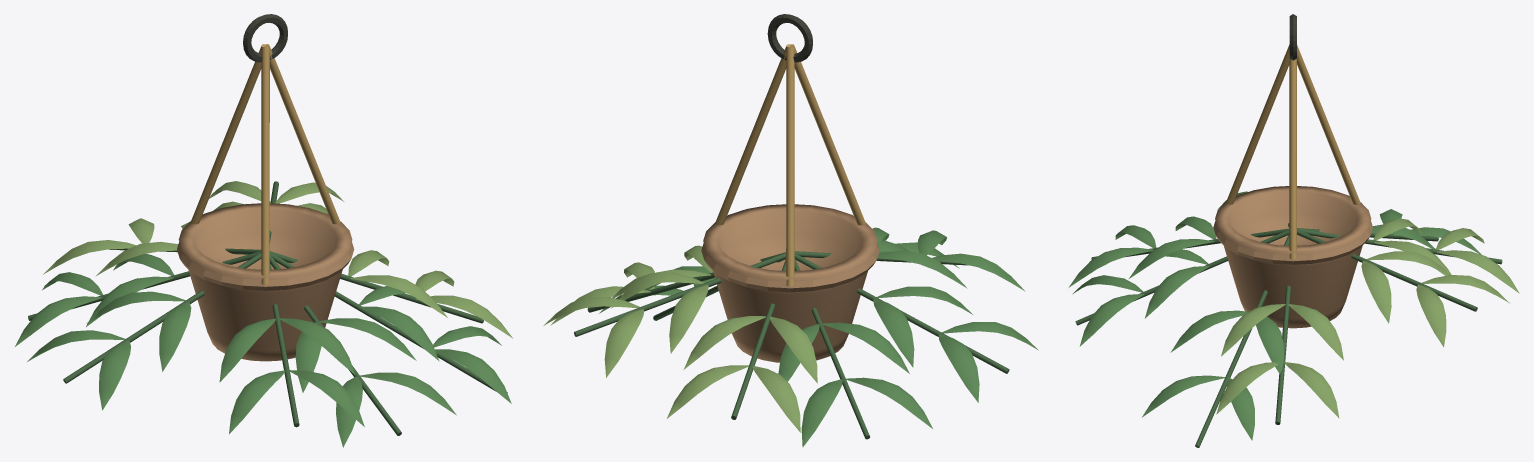
The model's file is SM_HH_Q3_HangingHerb.fbx.
The picture shows the model from 3 angles, left to right: view 1: azimuth 30°, elevation 25°; view 2: azimuth 150°, elevation 25°; view 3: azimuth 270°, elevation 25°; orthographic projection. The views are drawn at different scales.
Parts seen in each view (by area): view 1: HH_Q3_HangingHerb; view 2: HH_Q3_HangingHerb; view 3: HH_Q3_HangingHerb.
Boxes of the visible parts, x1,y1,x2,y2 form: HH_Q3_HangingHerb: [15, 14, 512, 447]; HH_Q3_HangingHerb: [543, 14, 1038, 447]; HH_Q3_HangingHerb: [1068, 14, 1519, 447].
Size of the model in its own units: 1.06 by 1.04 by 0.9069.
